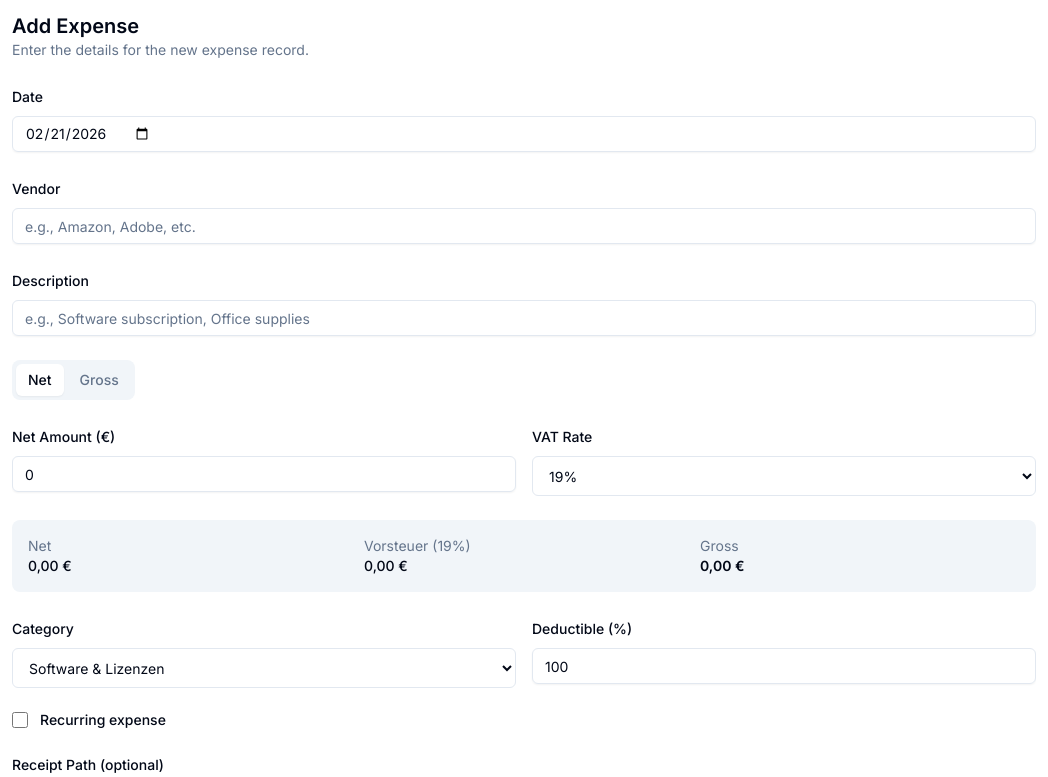
Test case: ExpenseForm › recurring expense › hides frequency selector when recurring is disabled
This screenshot has width=1048, height=777.
Click the checkbox labelled "Recurring expense": {"x": 20, "y": 720} [12, 712, 28, 728]
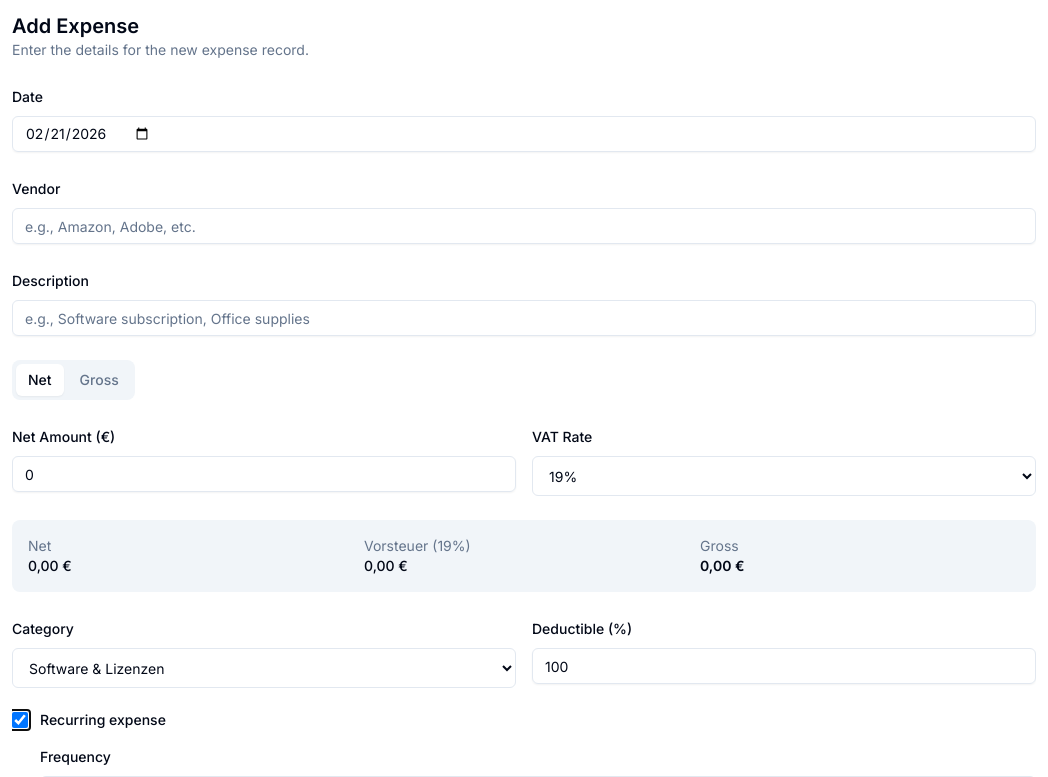
Click the checkbox labelled "Recurring expense": {"x": 20, "y": 720} [12, 712, 28, 728]
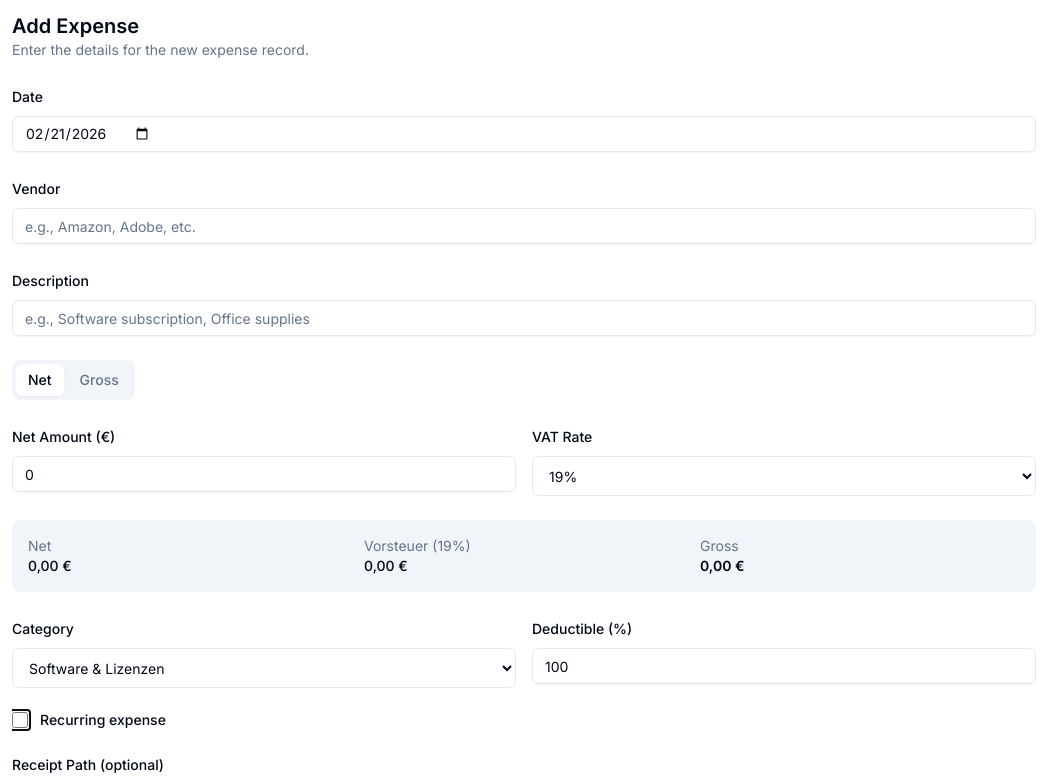
Expected: the label labelled "Frequency" is gone
